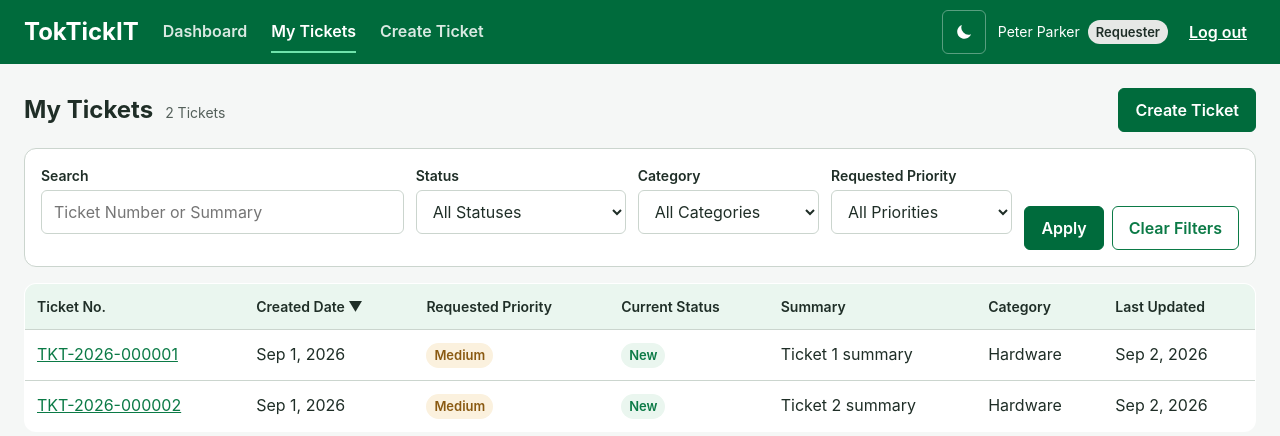
My Tickets › AC-33: sends the search term and reloads
expect the link "TKT-2026-000001" is shown: met, box x1=37 y1=344 x2=178 y2=364
Step 1. Type "VPN" into the search field labelled "Search" → (222, 212), box x1=41 y1=190 x2=404 y2=234
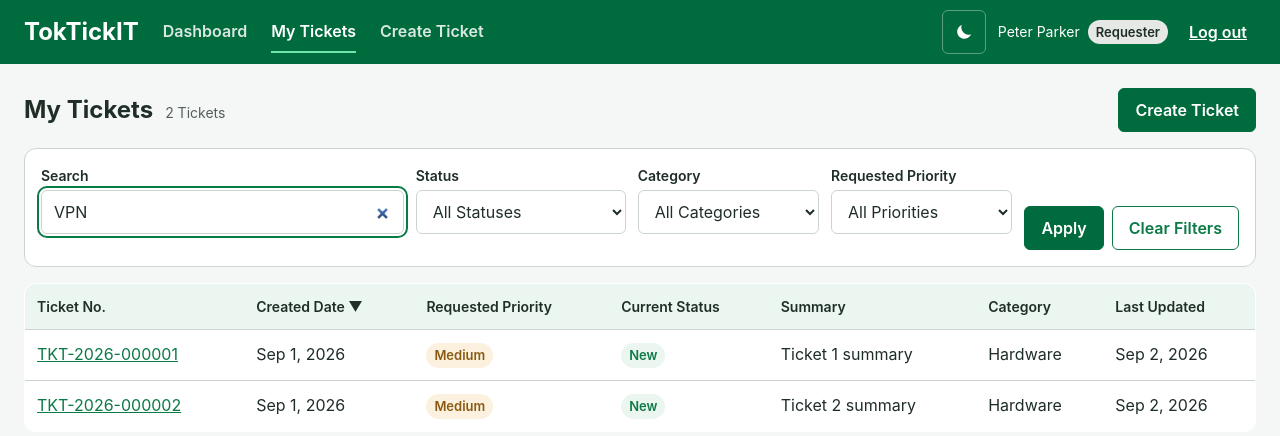
Step 2. Click the button "Apply" → (1064, 228), box x1=1024 y1=206 x2=1104 y2=250
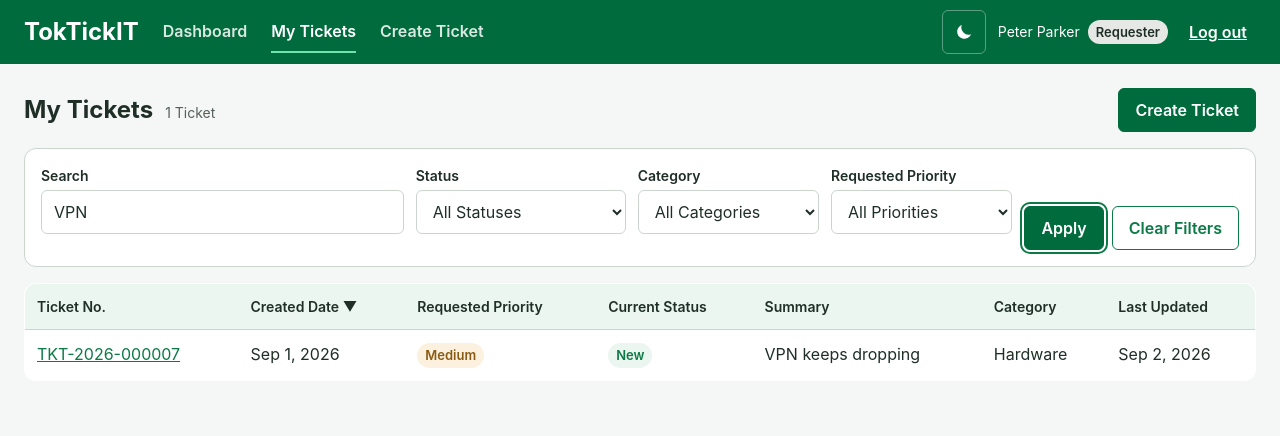
expect the text "VPN keeps dropping" is shown: met, box x1=753 y1=330 x2=982 y2=380
